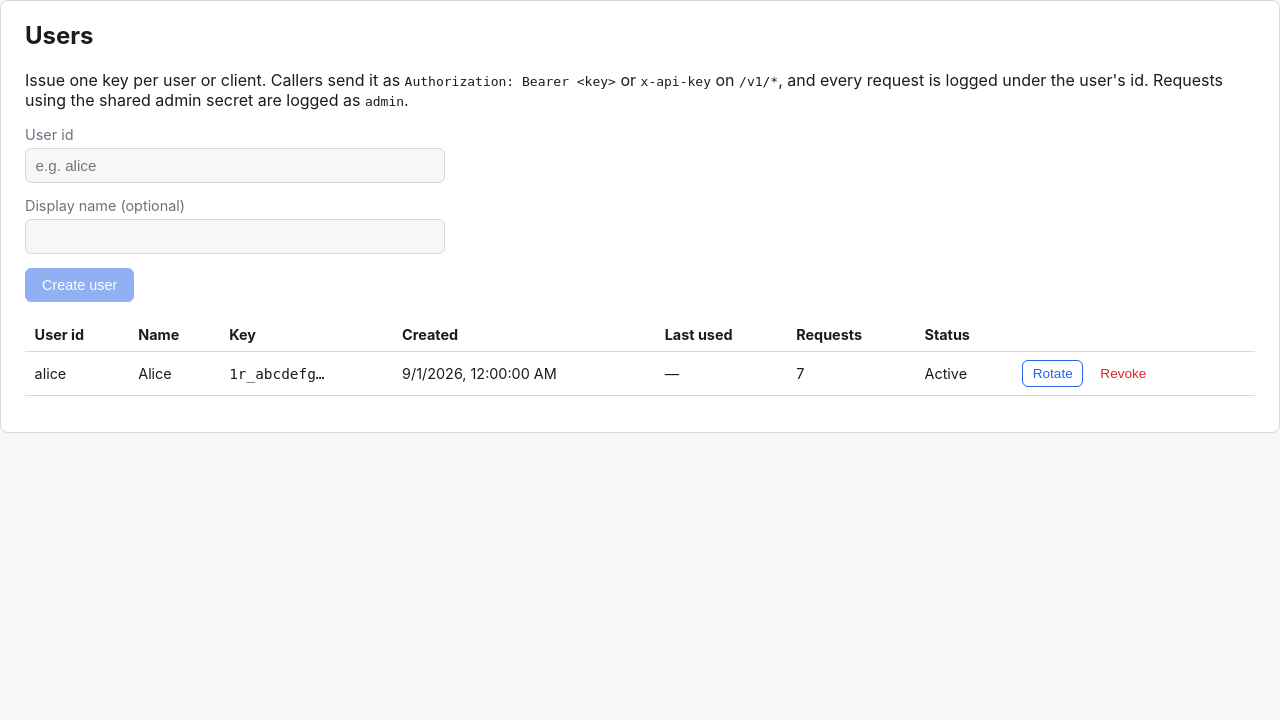
Test: Users › rotates_after_confirmation_and_shows_the_new_key
Click the button with aria-label "Rotate key for alice": (1053, 374) [1022,360,1083,387]
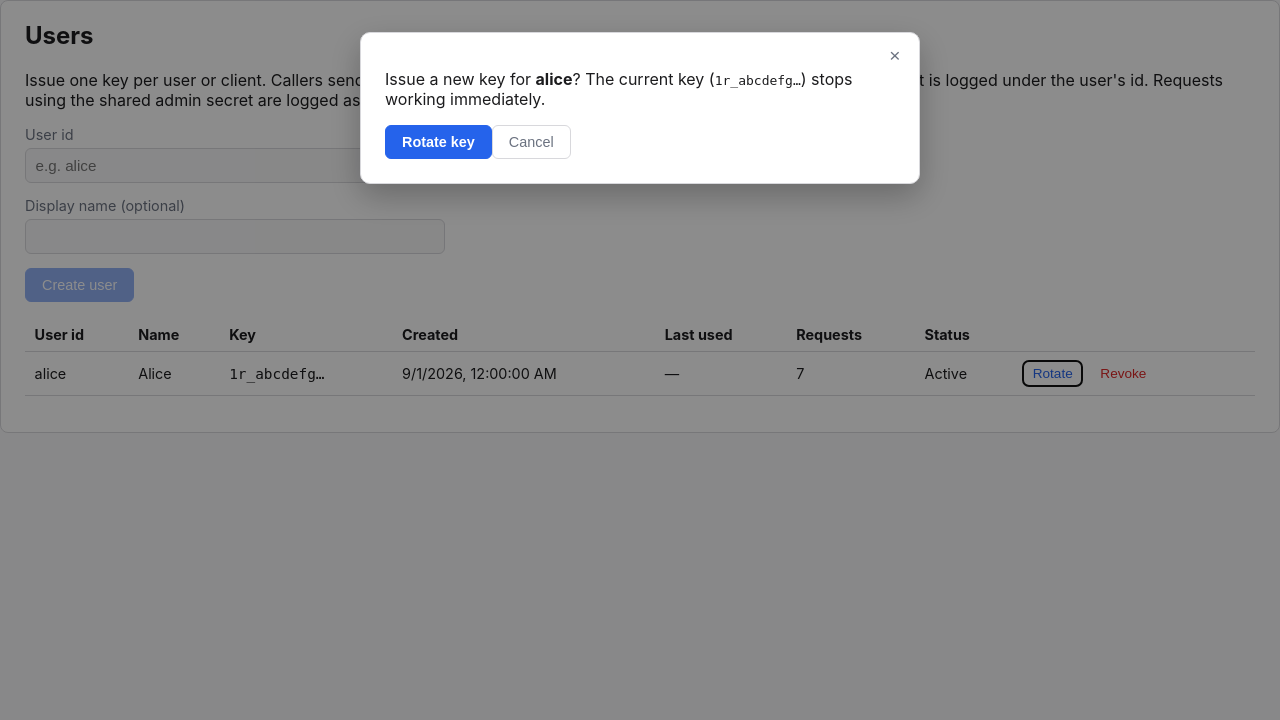
Click the button "Rotate key": (438, 142) [385,125,492,159]
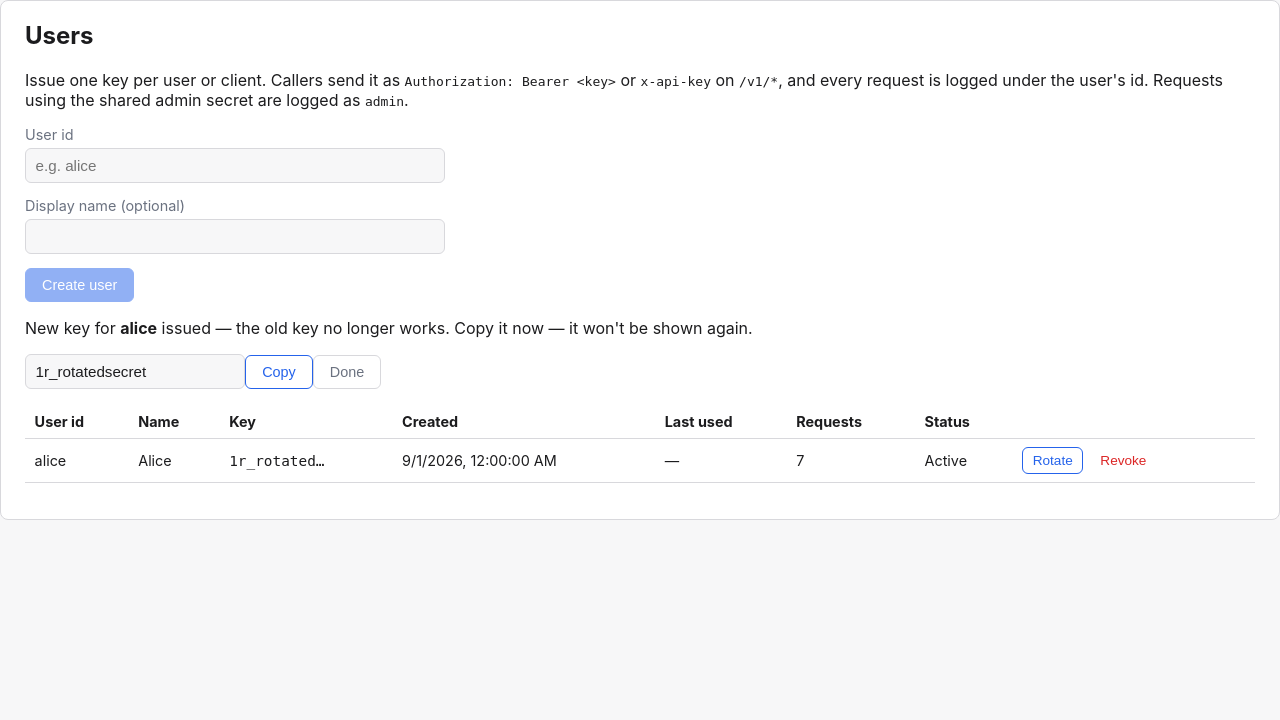
Check: the field named "New API key" holds "1r_rotatedsecret", box [25,354,245,389]
Check: the text "1r_rotated…" is shown, box [229,453,324,469]
